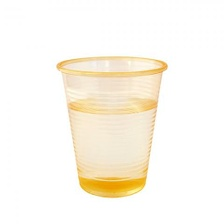glass: (51, 52, 170, 201)
